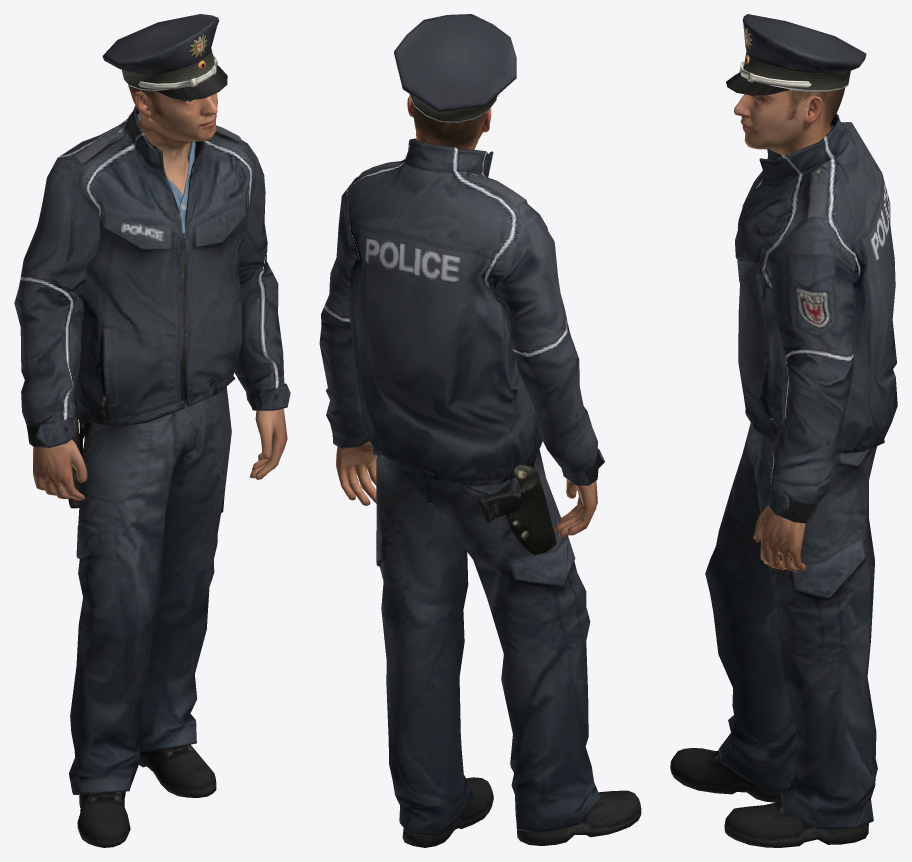
The model's file is Policeman.fbx.
The picture shows the model from 3 angles, left to right: view 1: azimuth 30°, elevation 25°; view 2: azimuth 150°, elevation 25°; view 3: azimuth 270°, elevation 25°; orthographic projection. The views are drawn at different scales.
Parts seen in each view (by area): view 1: policeman.001, policeman.005, policeman, policeman.006; view 2: policeman.001, policeman.005, policeman, policeman.002; view 3: policeman.001, policeman.005, policeman, policeman.006.
Part boxes in pixels (x1,y1,x2,y2): policeman.001: [14, 105, 290, 847]; policeman.005: [102, 14, 227, 100]; policeman: [128, 85, 217, 195]; policeman.006: [138, 54, 217, 89]; policeman.001: [319, 138, 641, 847]; policeman.005: [394, 14, 516, 122]; policeman: [407, 96, 491, 149]; policeman.002: [477, 477, 521, 523]; policeman.001: [670, 114, 897, 847]; policeman.005: [726, 14, 866, 95]; policeman: [734, 87, 845, 155]; policeman.006: [739, 61, 811, 87].
Bounding box in the file's own units: 129 × 368 × 92.67.
Materials: 3 (3 with a texture image).
